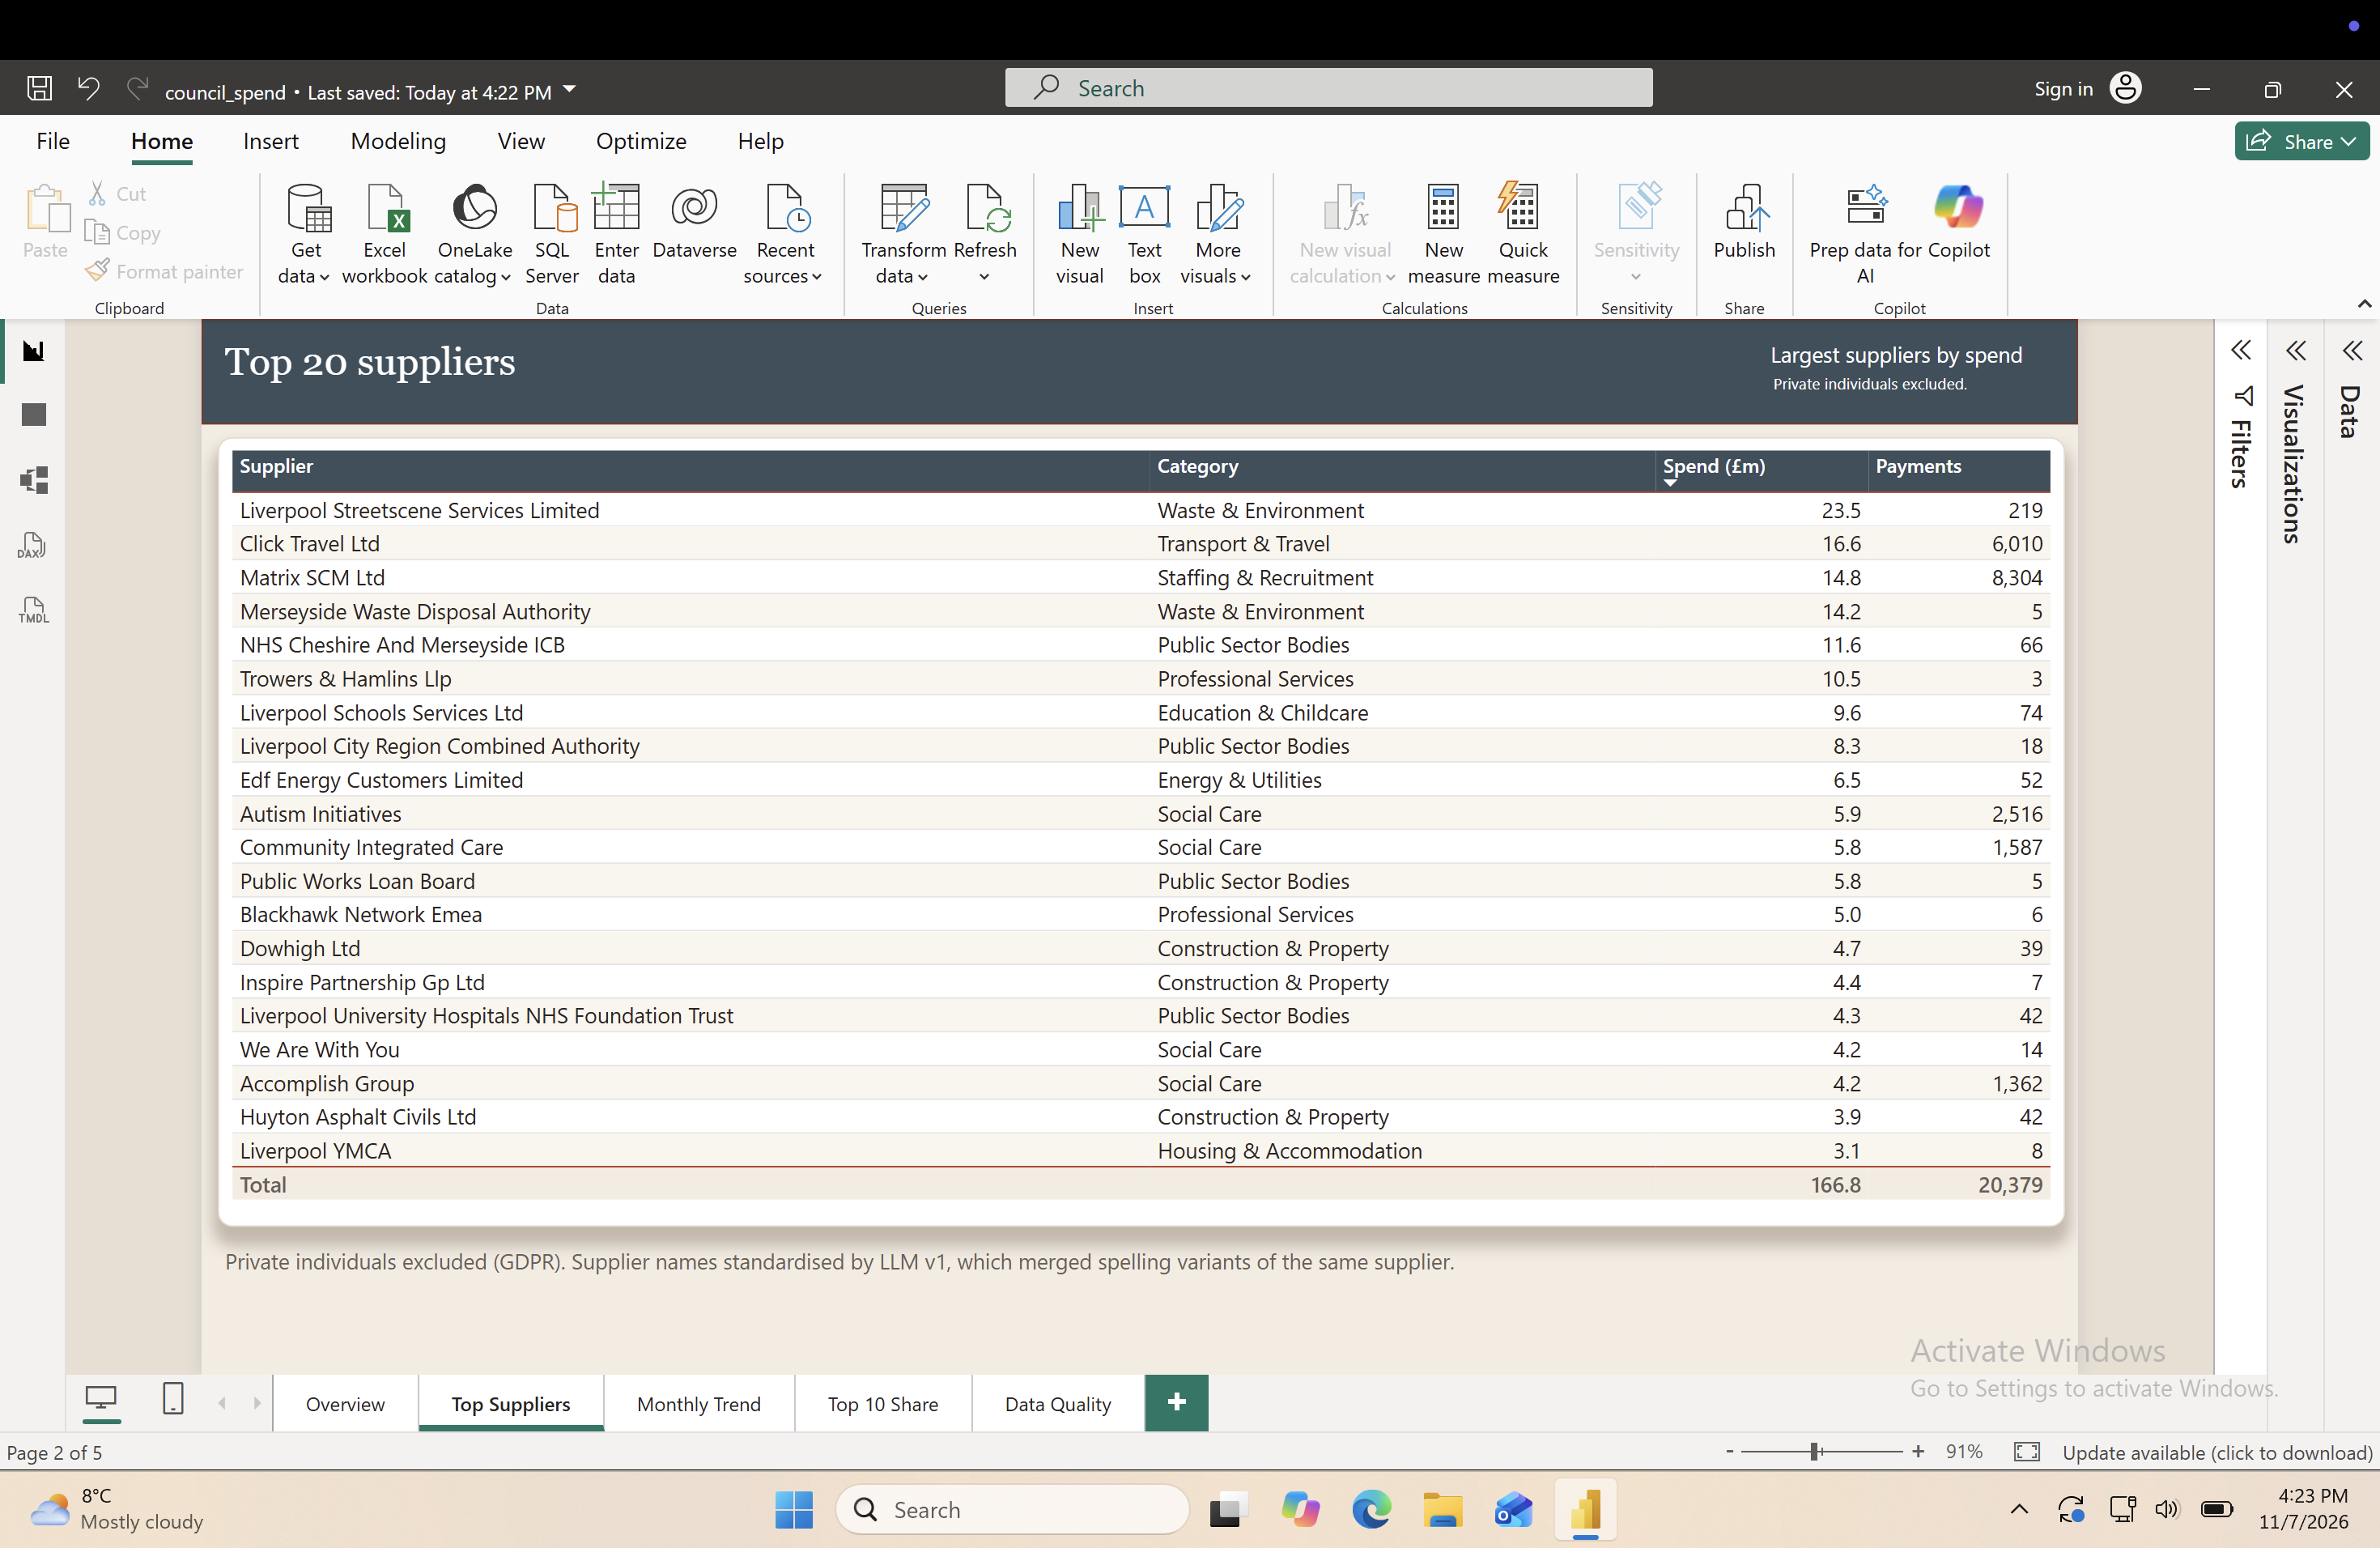

Layout of this report page (visuals, bound fields, positions):
{"tool":"powerbi","page":{"name":"Top Suppliers","canvas":[1280,720],"ordinal":1},"visuals":[{"type":"tableEx","fields":{"Values":["dim_supplier.supplier_name","dim_supplier.main_category","fact_spend.Spend £m","fact_spend.Payments"]},"box":[11.1,80.5,1260.2,538.5],"z":0},{"type":"shape","box":[0,0,1280,72],"z":1000},{"type":"textbox","box":[11.1,8.7,388.7,49.5],"z":2000},{"type":"textbox","box":[1060.9,8.7,210.4,49.5],"z":3000},{"type":"textbox","box":[11.1,627.6,1260.2,49.5],"z":4000}]}

Visuals, with their boxes on the page's 1280x720 design canvas (x1, y1, x2, y2). These are canvas units, not pixel positions in the 2380x1548 screenshot, which may show the page scaled, cropped or inside an application window:
tableEx - dim_supplier.supplier_name x dim_supplier.main_category: <box>11,80,1271,619</box>
shape: <box>0,0,1280,72</box>
textbox: <box>11,9,400,58</box>
textbox: <box>1061,9,1271,58</box>
textbox: <box>11,628,1271,677</box>
